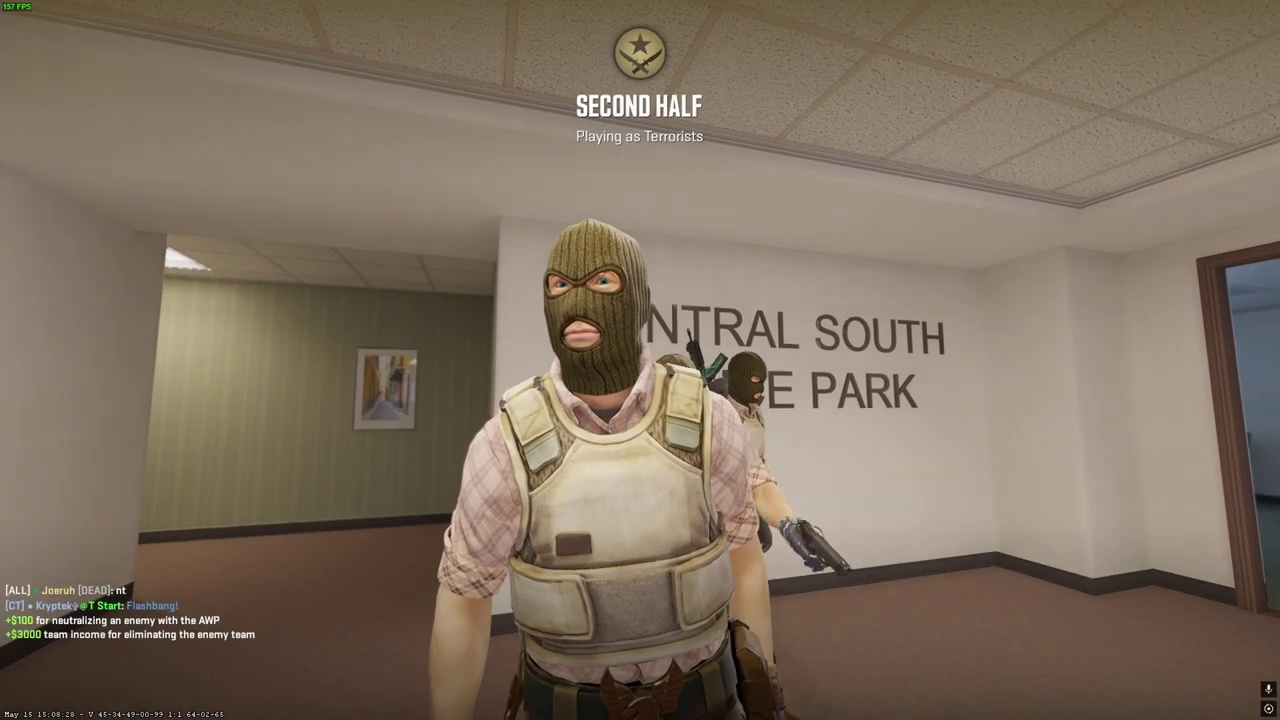Terrorist: (407, 218, 811, 720)
